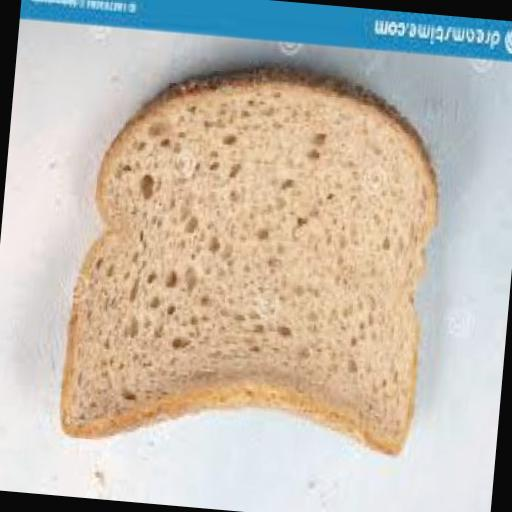biodegradable: (57, 57, 450, 471)
